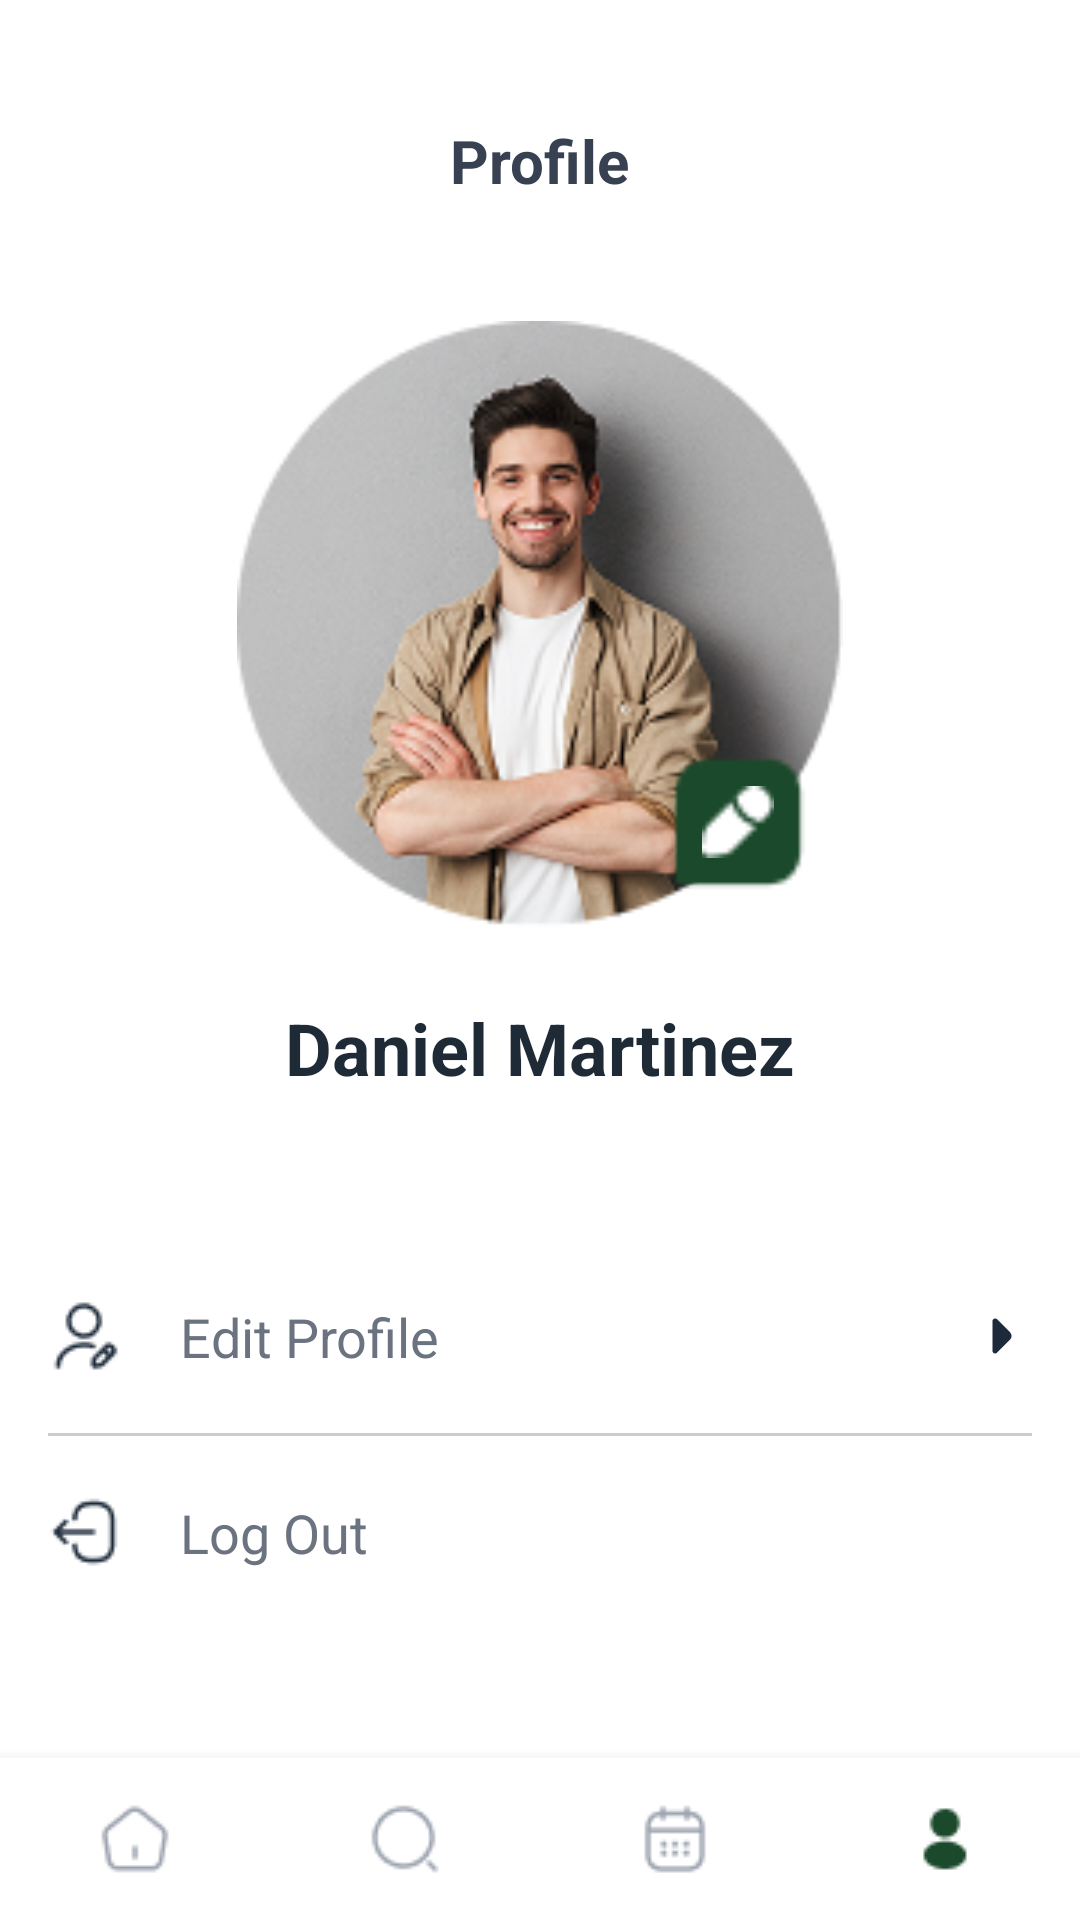

Point at icon controls on the screen. Image size 1080×1920, points as (x,y).
arrow right manual: (1002,1336)
calendar: (675,1839)
home: (135,1839)
pencil: (738,822)
profile: (945,1839)
search: (404,1838)
